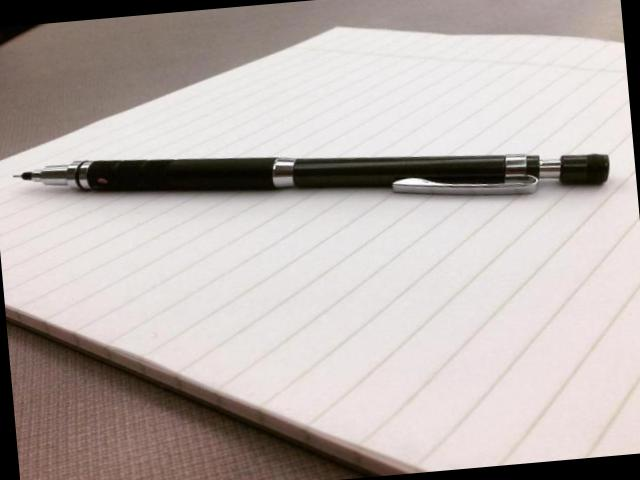PEN: (6, 108, 618, 248)
